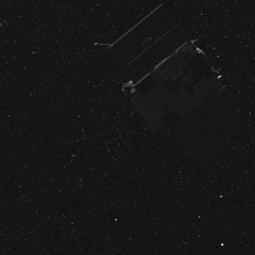proba_2: (84, 0, 238, 148)
